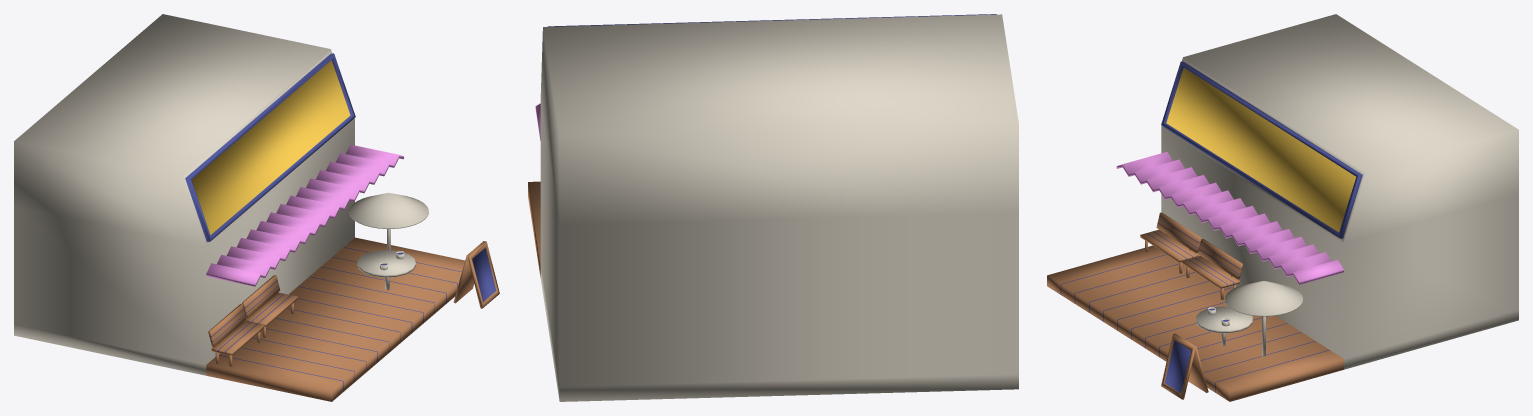
File: 032_カフェ.glb
The picture shows the model from 3 angles, left to right: view 1: azimuth 30°, elevation 25°; view 2: azimuth 150°, elevation 25°; view 3: azimuth 270°, elevation 25°; orthographic projection. The views are drawn at different scales.
Visible parts, largest first — view 1: 立方体005_1, 立方体005_4, 立方体005_11, 立方体005_2, 立方体005_5, 立方体005_6, 立方体005_10, 立方体005, 立方体005_9, 立方体005_8; view 2: 立方体005_1, 立方体005_4, 立方体005_10; view 3: 立方体005_1, 立方体005_4, 立方体005_11, 立方体005_2, 立方体005_5, 立方体005_6, 立方体005_10, 立方体005, 立方体005_9, 立方体005_8, 立方体005_7.
Boxes of the visible parts, x1,y1,x2,y2 form: 立方体005_1: [14, 14, 354, 375]; 立方体005_4: [206, 237, 465, 401]; 立方体005_11: [192, 60, 350, 234]; 立方体005_2: [206, 144, 403, 286]; 立方体005_5: [349, 193, 428, 290]; 立方体005_6: [208, 275, 297, 366]; 立方体005_10: [185, 53, 355, 241]; 立方体005: [219, 247, 461, 391]; 立方体005_9: [453, 241, 499, 308]; 立方体005_8: [472, 248, 496, 301]; 立方体005_1: [540, 14, 1018, 401]; 立方体005_4: [528, 181, 540, 277]; 立方体005_10: [547, 14, 996, 26]; 立方体005_1: [1161, 14, 1518, 369]; 立方体005_4: [1047, 245, 1343, 401]; 立方体005_11: [1166, 68, 1356, 232]; 立方体005_2: [1116, 152, 1343, 284]; 立方体005_5: [1196, 281, 1303, 356]; 立方体005_6: [1140, 212, 1242, 299]; 立方体005_10: [1161, 61, 1362, 238]; 立方体005: [1060, 254, 1329, 392]; 立方体005_9: [1161, 333, 1208, 399]; 立方体005_8: [1165, 340, 1190, 393]; 立方体005_7: [1146, 218, 1241, 286].
Bounding box in the file's own units: 4.98 × 2.25 × 5.03.
